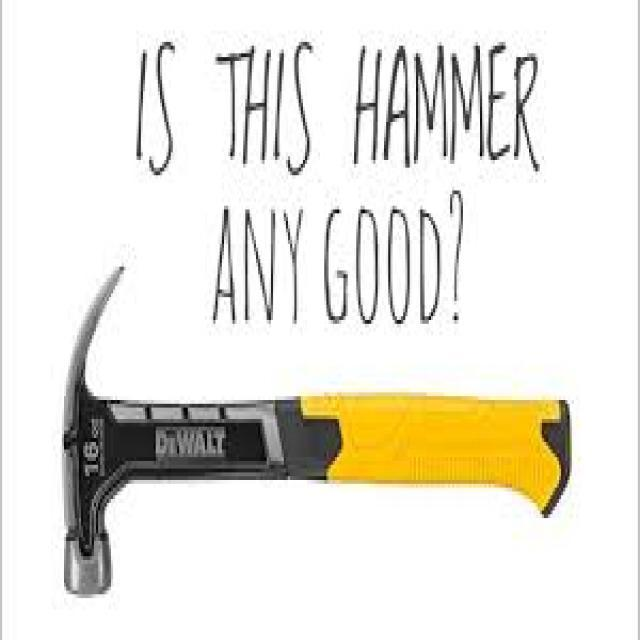hammer: (48, 262, 586, 608)
